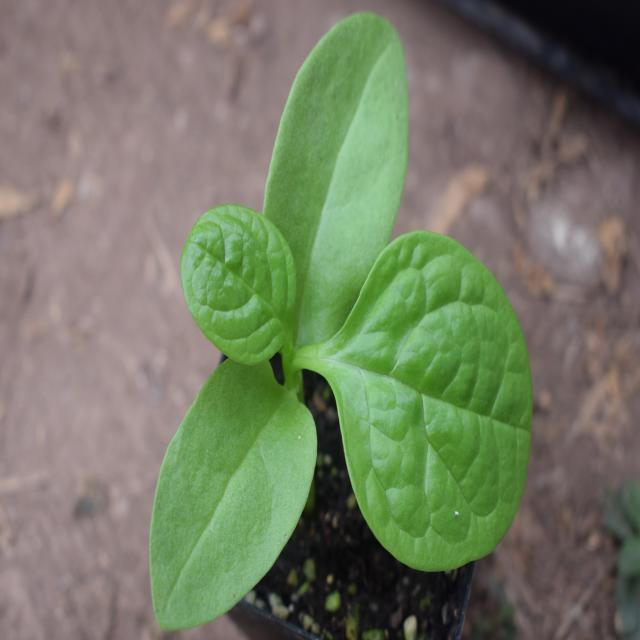Ceylon spinach: (135, 35, 520, 577)
